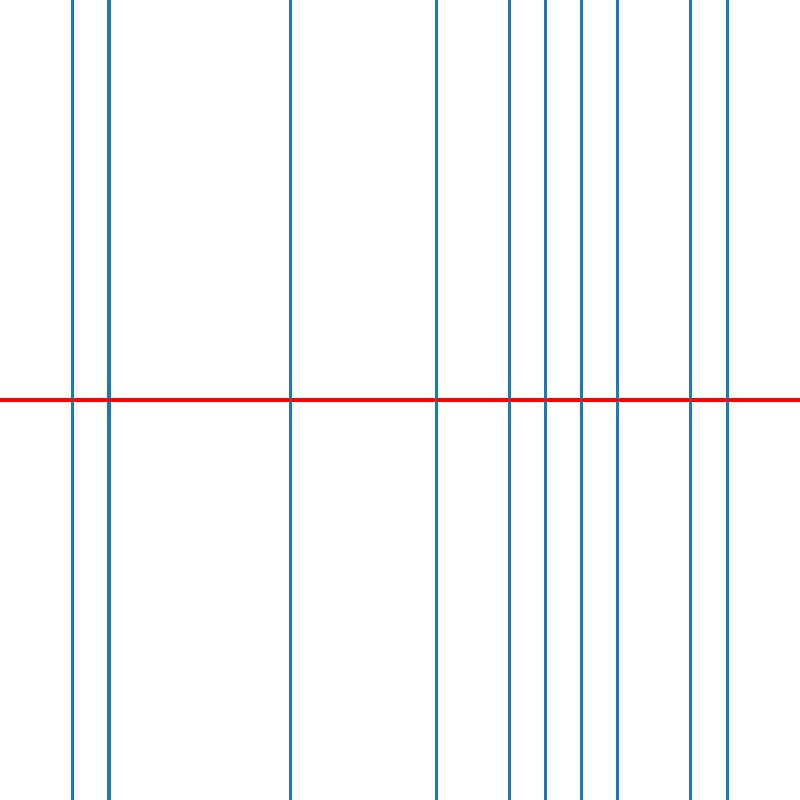root: (432, 396, 440, 404), (541, 396, 549, 404), (505, 396, 512, 404), (69, 396, 76, 404), (687, 396, 694, 404), (723, 396, 730, 404), (105, 396, 112, 404), (614, 396, 621, 404), (578, 396, 585, 404), (287, 396, 294, 404)
